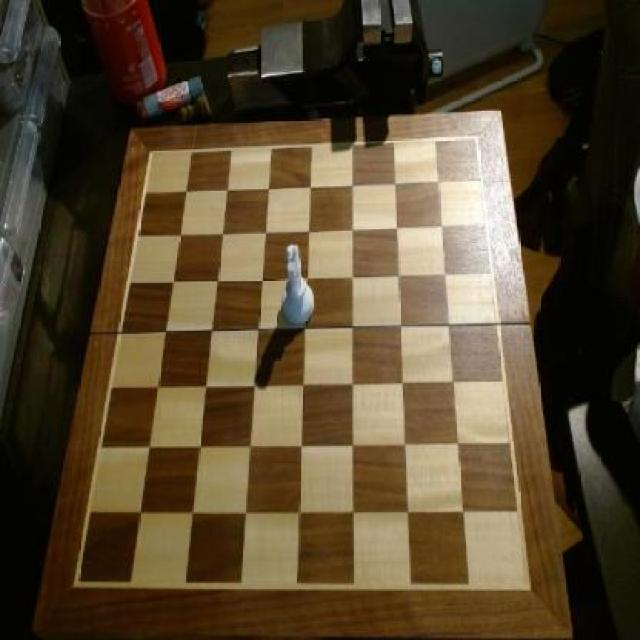white-king: (280, 241, 317, 327)
